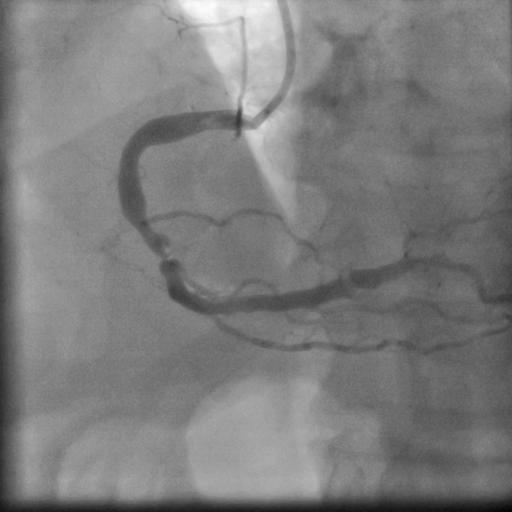Stenosis: (138, 229, 179, 269)
